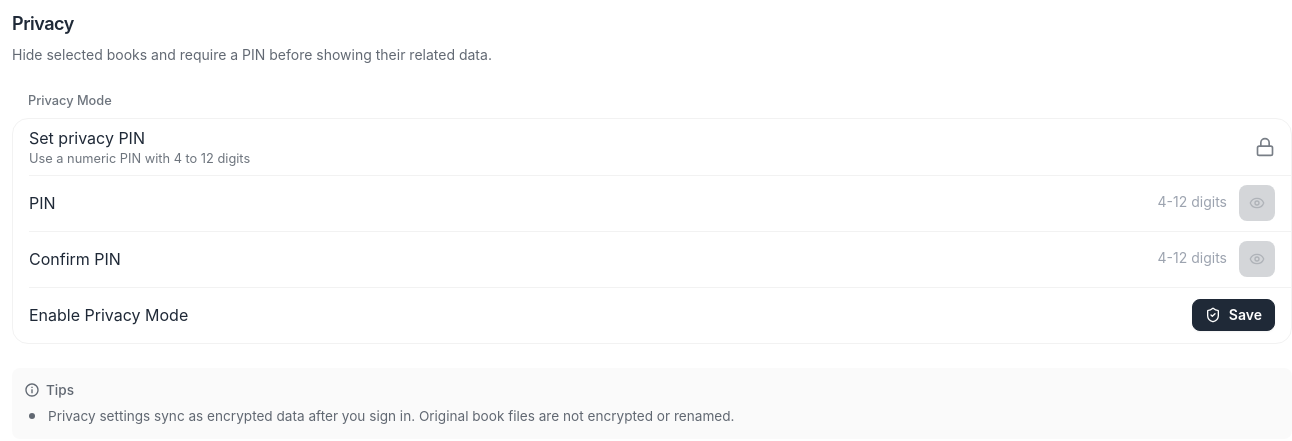
it: PrivacyPanel PIN input › accepts only digits and limits pasted input to 12 digits
Type "12ab345678901234" into the password field labelled "PIN" at [1127, 203], box [1019,185,1235,221]
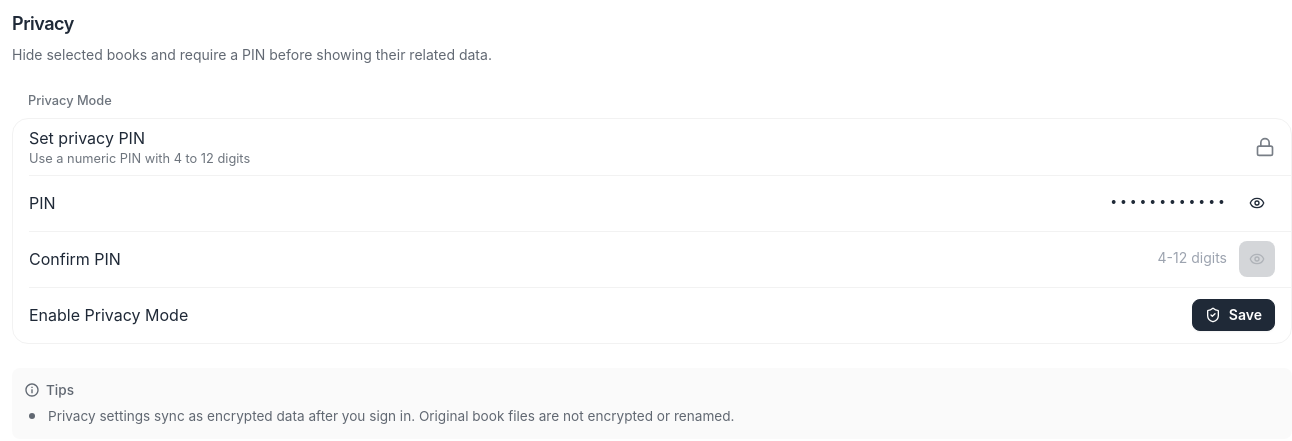
Expected: the password field labelled "PIN" holds "123456789012", [1019,185,1235,221]
